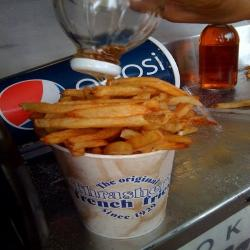fries: (46, 86, 192, 151)
